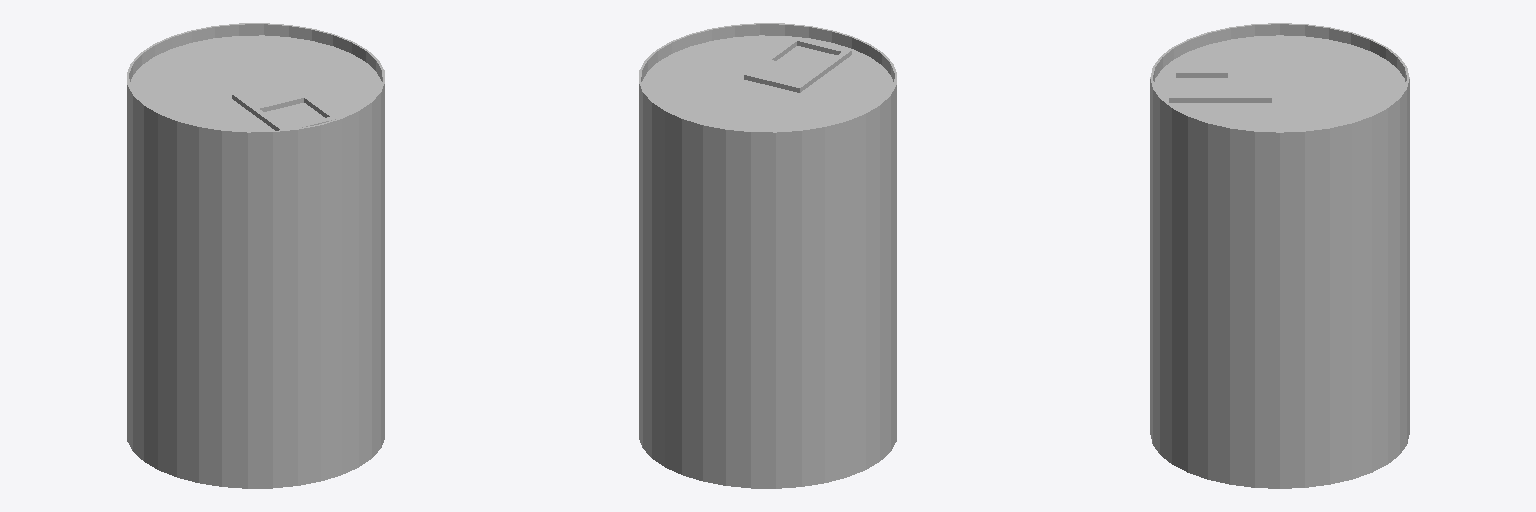
File: can.obj
3 views of the same model, side by side, from view 1: azimuth 30°, elevation 25°; view 2: azimuth 150°, elevation 25°; view 3: azimuth 270°, elevation 25° (orthographic).
Visible parts, largest first — view 1: 円柱, 円柱.004, 立方体; view 2: 円柱, 円柱.004, 立方体; view 3: 円柱, 円柱.004, 立方体.
Boxes of the visible parts, box(x1,y1,x2,y2) form: 円柱: box(127, 23, 384, 488); 円柱.004: box(130, 35, 381, 130); 立方体: box(232, 80, 338, 130); 円柱: box(639, 23, 896, 488); 円柱.004: box(642, 35, 893, 130); 立方体: box(744, 37, 851, 92); 円柱: box(1150, 23, 1409, 488); 円柱.004: box(1154, 35, 1405, 131); 立方体: box(1169, 71, 1271, 102).
Bounding box in the file's own units: 2 × 3.03 × 2.